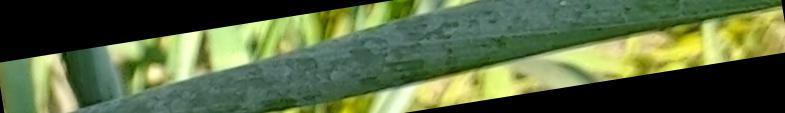Wheat: (108, 37, 380, 109), (364, 4, 602, 81)
